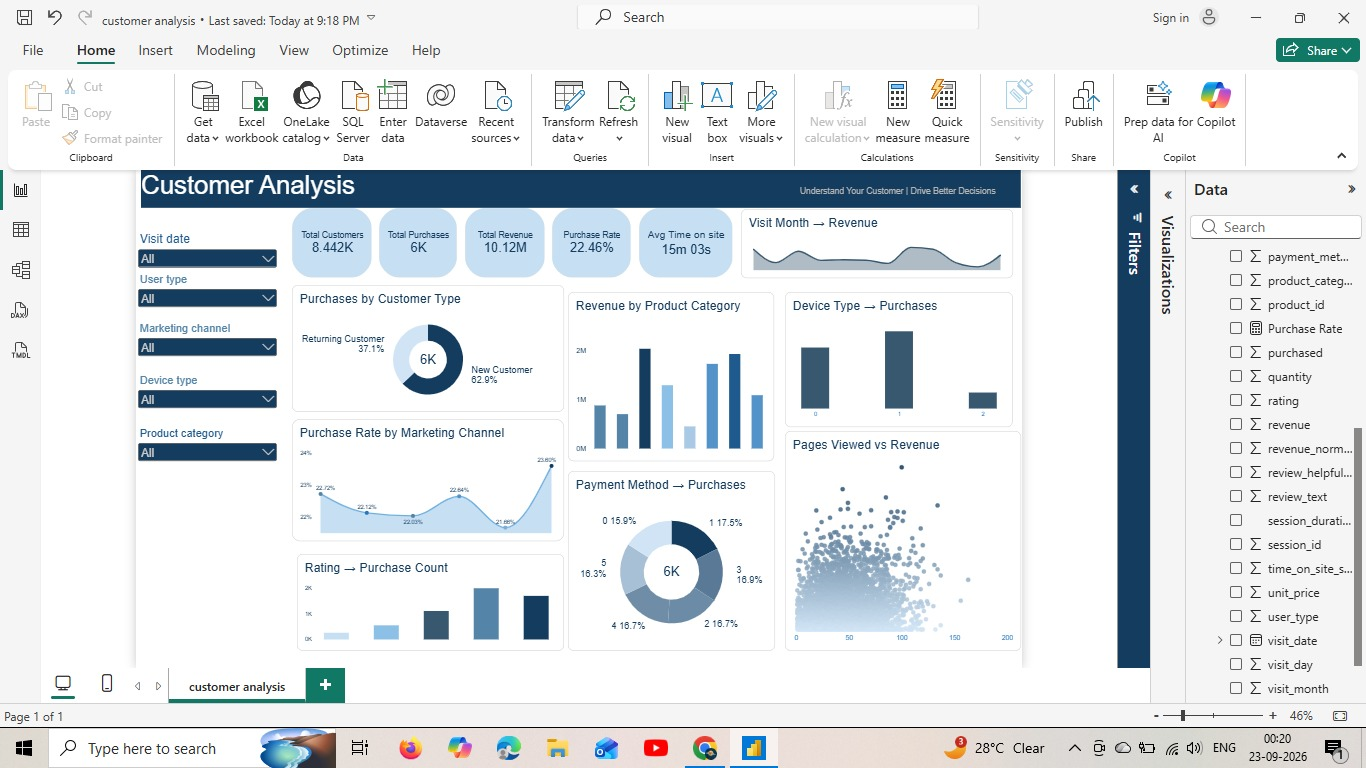

Layout of this report page (visuals, bound fields, positions):
{"tool":"powerbi","page":{"name":"customer analysis","canvas":[1920,1080],"ordinal":0},"visuals":[{"type":"textbox","box":[10.8,0,1908.4,82.4],"z":0},{"type":"cardVisual","fields":{"Data":["Count(Ecommerce.customer_id)"]},"box":[338.3,82.4,173.5,151.8],"z":1000},{"type":"cardVisual","fields":{"Data":["Sum(Ecommerce.purchased)"]},"box":[527,82.4,169.2,151.8],"z":2000},{"type":"cardVisual","fields":{"Data":["Sum(Ecommerce.revenue)"]},"box":[713.5,82.4,173.5,151.8],"z":3000},{"type":"cardVisual","fields":{"Data":["Ecommerce.Purchase Rate"]},"box":[902.2,82.4,171.3,151.8],"z":4000},{"type":"cardVisual","fields":{"Data":["Ecommerce.Avg Time Display 2"]},"box":[1090.8,82.4,203.9,151.8],"z":5000},{"type":"donutChart","title":"Purchases by Customer Type","fields":{"Category":["Ecommerce.Customer Type"],"Y":["Sum(Ecommerce.purchased)"]},"box":[338.3,249.4,589.9,275.4],"z":6000},{"type":"clusteredColumnChart","title":"Revenue by Product Category","fields":{"Category":["Ecommerce.product_category"],"Y":["Sum(Ecommerce.revenue)"]},"box":[936.9,264.6,446.7,366.5],"z":7000},{"type":"lineChart","title":"Purchase Rate by Marketing Channel","fields":{"Category":["Ecommerce.marketing_channel"],"Y":["Ecommerce.Purchase Rate"]},"box":[338.3,540,589.9,264.6],"z":8000},{"type":"clusteredColumnChart","title":"Device Type → Purchases","fields":{"Category":["Ecommerce.device_type"],"Y":["Sum(Ecommerce.purchased)"]},"box":[1407.5,264.6,494.5,292.8],"z":9000},{"type":"lineChart","title":"Visit Month → Revenue","fields":{"Category":["Ecommerce.visit_month"],"Y":["Sum(Ecommerce.revenue)"]},"box":[1312,84.6,589.9,149.6],"z":10000},{"type":"scatterChart","title":"Pages Viewed vs Revenue","fields":{"Y":["Sum(Ecommerce.revenue)"],"X":["Sum(Ecommerce.pages_viewed)"],"Category":["Ecommerce.customer_id"]},"box":[1407.5,566,511.8,477.1],"z":11000},{"type":"donutChart","title":"Payment Method → Purchases","fields":{"Y":["Sum(Ecommerce.purchased)"],"Category":["Ecommerce.payment_method"]},"box":[936.9,652.8,448.9,390.4],"z":12000},{"type":"clusteredColumnChart","title":"Rating → Purchase Count","fields":{"Category":["Ecommerce.rating"],"Y":["Sum(Ecommerce.purchased)"]},"box":[349.2,832.8,579,210.4],"z":13000},{"type":"slicer","fields":{"Values":["Ecommerce.visit_date"]},"box":[0,134.5,309.9,83.1],"z":14000},{"type":"slicer","fields":{"Values":["Ecommerce.user_type"]},"box":[0,223.4,309.9,83.1],"z":15000},{"type":"slicer","fields":{"Values":["Ecommerce.marketing_channel"]},"box":[0,329.6,309.9,83.1],"z":16000},{"type":"slicer","fields":{"Values":["Ecommerce.device_type"]},"box":[0,442.4,309.9,83.1],"z":17000},{"type":"slicer","fields":{"Values":["Ecommerce.product_category"]},"box":[0,557.3,309.9,83.1],"z":18000}]}

Visuals, with their boxes on the page's 1920x1080 design canvas (x1, y1, x2, y2). These are canvas units, not pixel positions in the 1366x768 screenshot, which may show the page scaled, cropped or inside an application window:
textbox: bbox=[11, 0, 1919, 82]
cardVisual - Count(Ecommerce.customer_id): bbox=[338, 82, 512, 234]
cardVisual - Sum(Ecommerce.purchased): bbox=[527, 82, 696, 234]
cardVisual - Sum(Ecommerce.revenue): bbox=[714, 82, 887, 234]
cardVisual - Ecommerce.Purchase Rate: bbox=[902, 82, 1074, 234]
cardVisual - Ecommerce.Avg Time Display 2: bbox=[1091, 82, 1295, 234]
"Purchases by Customer Type" donutChart: bbox=[338, 249, 928, 525]
"Revenue by Product Category" clusteredColumnChart: bbox=[937, 265, 1384, 631]
"Purchase Rate by Marketing Channel" lineChart: bbox=[338, 540, 928, 805]
"Device Type → Purchases" clusteredColumnChart: bbox=[1408, 265, 1902, 557]
"Visit Month → Revenue" lineChart: bbox=[1312, 85, 1902, 234]
"Pages Viewed vs Revenue" scatterChart: bbox=[1408, 566, 1919, 1043]
"Payment Method → Purchases" donutChart: bbox=[937, 653, 1386, 1043]
"Rating → Purchase Count" clusteredColumnChart: bbox=[349, 833, 928, 1043]
slicer - Ecommerce.visit_date: bbox=[0, 134, 310, 218]
slicer - Ecommerce.user_type: bbox=[0, 223, 310, 306]
slicer - Ecommerce.marketing_channel: bbox=[0, 330, 310, 413]
slicer - Ecommerce.device_type: bbox=[0, 442, 310, 526]
slicer - Ecommerce.product_category: bbox=[0, 557, 310, 640]
